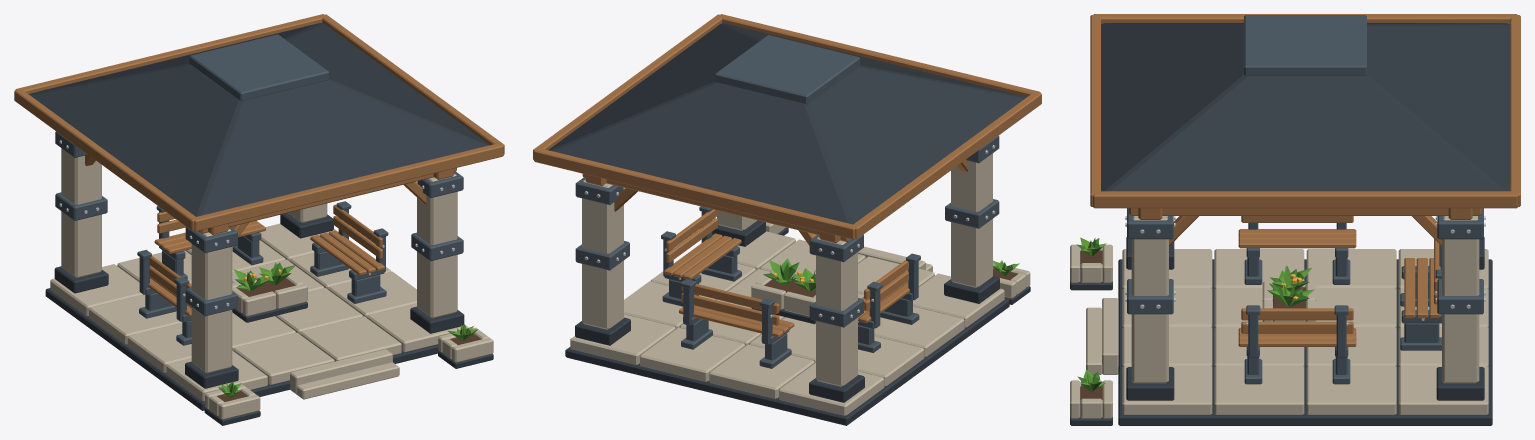
File: Lobby_Shelter.fbx
3 views of the same model, side by side, from view 1: azimuth 30°, elevation 25°; view 2: azimuth 150°, elevation 25°; view 3: azimuth 270°, elevation 25° (orthographic). The views are drawn at different scales.
Visible parts, largest first — view 1: Roof, Platform, Columns, Fascia, FrameDark, RoofCap, Frame, Wood, Posts, Concrete, Steps, Beams (+2 smaller); view 2: Roof, Platform, Columns, Fascia, FrameDark, Wood, Frame, RoofCap, Posts, Concrete, Beams, Leaf (+2 smaller); view 3: Roof, Platform, Fascia, FrameDark, Columns, Wood, RoofCap, Frame, Posts, Beams, Concrete, Steps (+3 smaller).
Boxes of the visible parts, x1,y1,x2,y2 form: Roof: (28, 23, 489, 216); Platform: (50, 223, 468, 401); Columns: (61, 148, 457, 373); Fascia: (14, 14, 504, 231); FrameDark: (45, 213, 493, 425); RoofCap: (189, 34, 329, 100); Frame: (137, 201, 388, 345); Wood: (148, 204, 385, 316); Posts: (55, 131, 463, 316); Concrete: (205, 272, 493, 419); Steps: (290, 349, 399, 399); Beams: (85, 154, 456, 237); Roof: (548, 23, 1026, 224); Platform: (570, 231, 1004, 415); Columns: (582, 153, 992, 386); Fascia: (533, 14, 1041, 239); FrameDark: (565, 220, 1030, 425); Wood: (664, 209, 909, 337); Frame: (661, 206, 920, 368); RoofCap: (715, 35, 859, 104); Posts: (575, 135, 999, 327); Concrete: (751, 222, 1030, 316); Beams: (582, 159, 968, 245); Leaf: (769, 258, 1019, 291); Roof: (1101, 23, 1509, 191); Platform: (1122, 249, 1488, 414); Fascia: (1090, 14, 1520, 208); FrameDark: (1070, 237, 1492, 425); Columns: (1131, 216, 1479, 383); Wood: (1238, 216, 1440, 346); RoofCap: (1244, 15, 1366, 75); Frame: (1244, 223, 1441, 384); Posts: (1127, 208, 1483, 314); Beams: (1129, 208, 1481, 246); Concrete: (1070, 244, 1316, 418); Steps: (1086, 298, 1118, 374).
Size of the model in its own units: 16.1 by 12.68 by 16.85.
